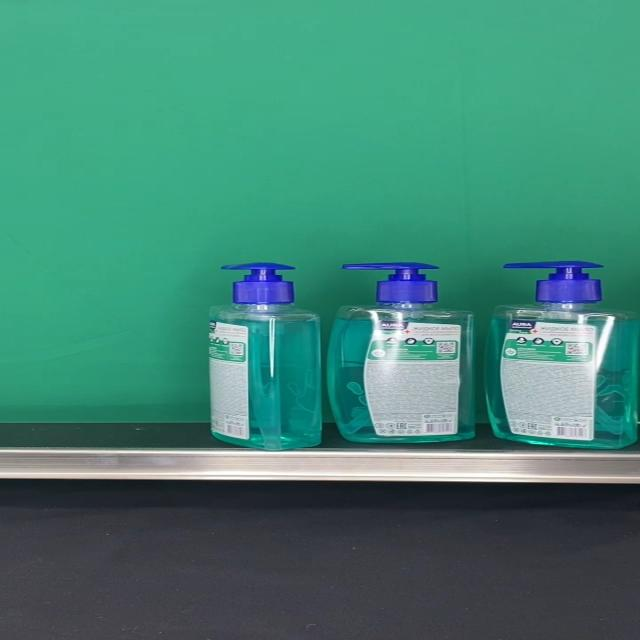Bottle: (486, 261, 638, 450), (329, 263, 476, 443), (210, 262, 324, 450)
Cap: (504, 261, 604, 303), (341, 262, 440, 304), (222, 262, 297, 304)
